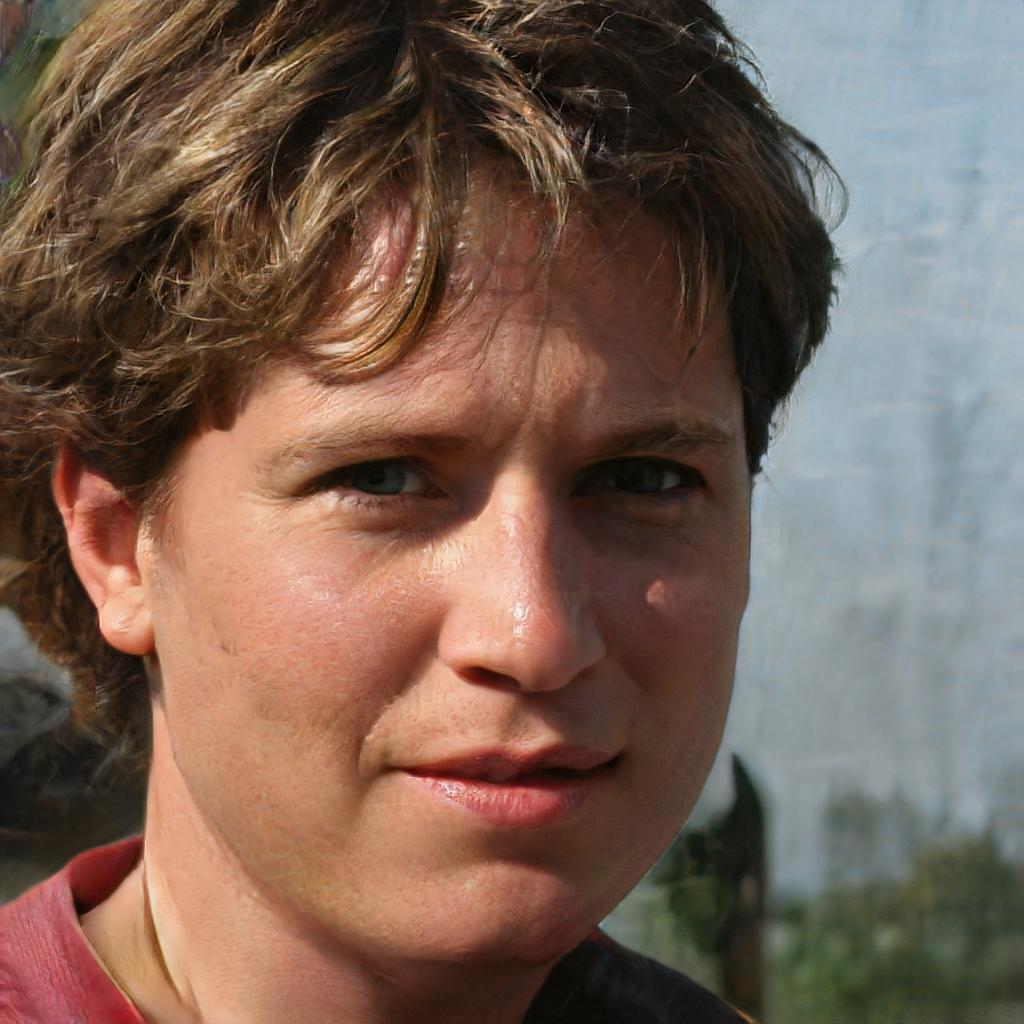face: (155, 176, 752, 964)
